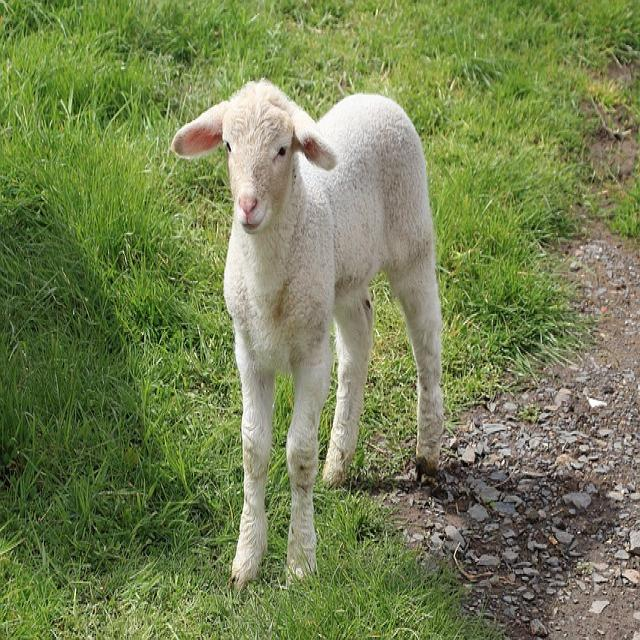goat: (169, 80, 447, 593)
